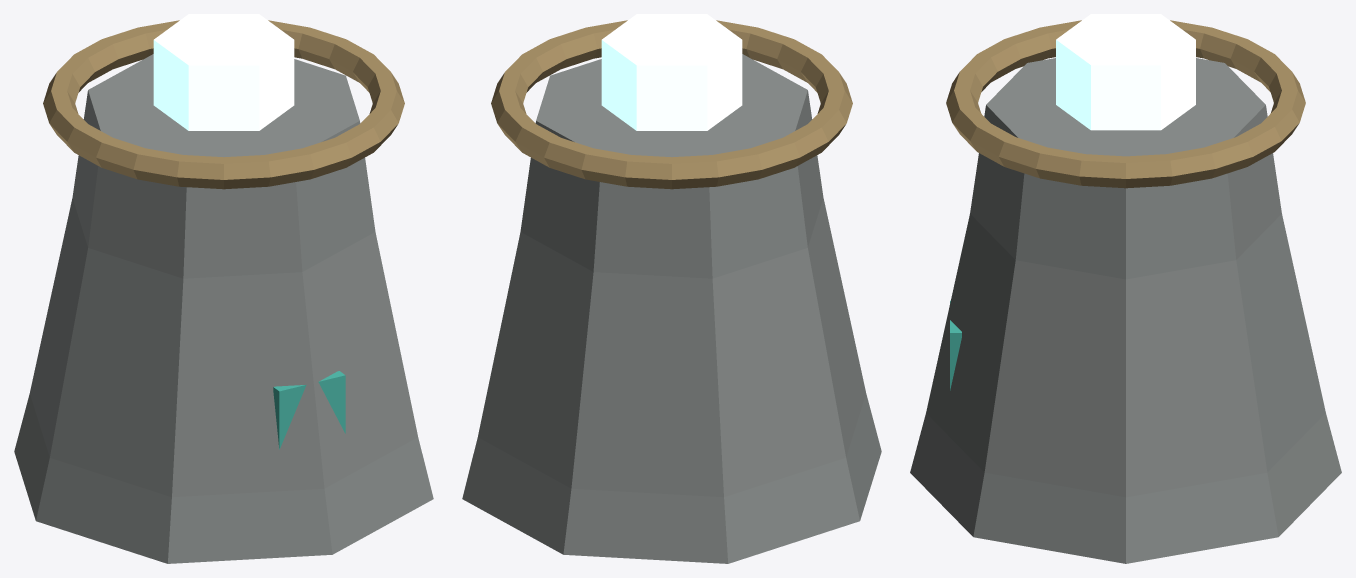
The model's file is building-arcane-tower.glb.
The picture shows the model from 3 angles, left to right: view 1: azimuth 30°, elevation 25°; view 2: azimuth 150°, elevation 25°; view 3: azimuth 270°, elevation 25°; orthographic projection.
Visible parts, largest first — view 1: Body; view 2: Body; view 3: Body.
Boxes of the visible parts, <box> form: Body: <box>14,14,433,563</box>; Body: <box>462,14,881,563</box>; Body: <box>910,14,1341,563</box>.
Size of the model in its own units: 2.16 by 2.39 by 2.16.
